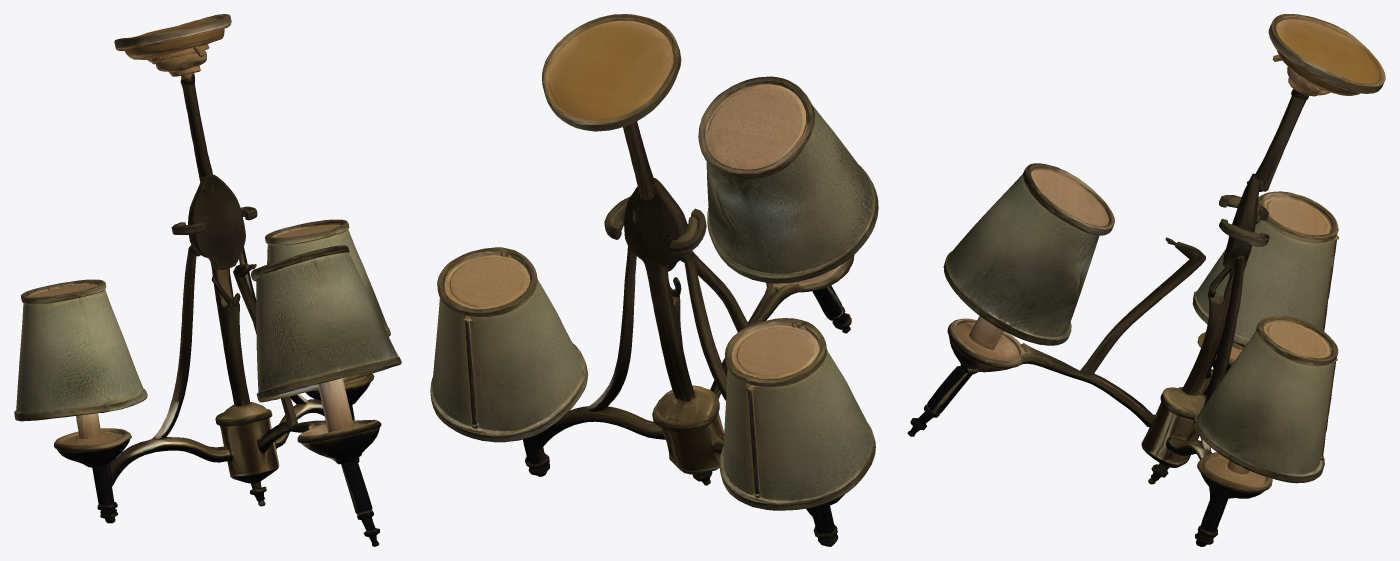
File: 餐厅油画_资产库.glb
3 views of the same model, side by side, from view 1: azimuth 30°, elevation 25°; view 2: azimuth 150°, elevation 25°; view 3: azimuth 270°, elevation 25° (orthographic). The views are drawn at different scales.
Parts seen in each view (by area): view 1: model; view 2: model; view 3: model.
Boxes of the visible parts, left/top/right/bottom form: model: left=14, top=14, right=401, bottom=546; model: left=430, top=14, right=878, bottom=546; model: left=907, top=14, right=1385, bottom=546.
Bounding box in the file's own units: 1.62 × 1.9 × 1.79.
Materials: 1 (1 with a texture image).
